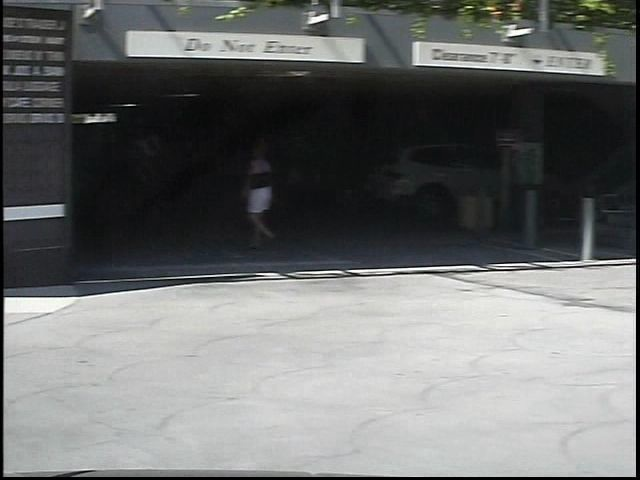person: (222, 138, 273, 258)
